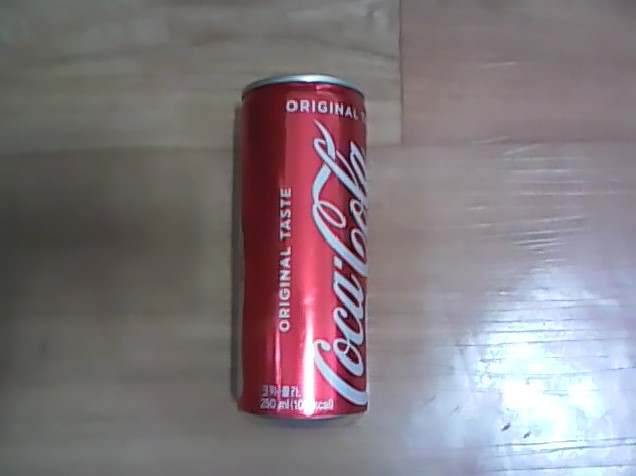Can: (230, 68, 378, 425)
